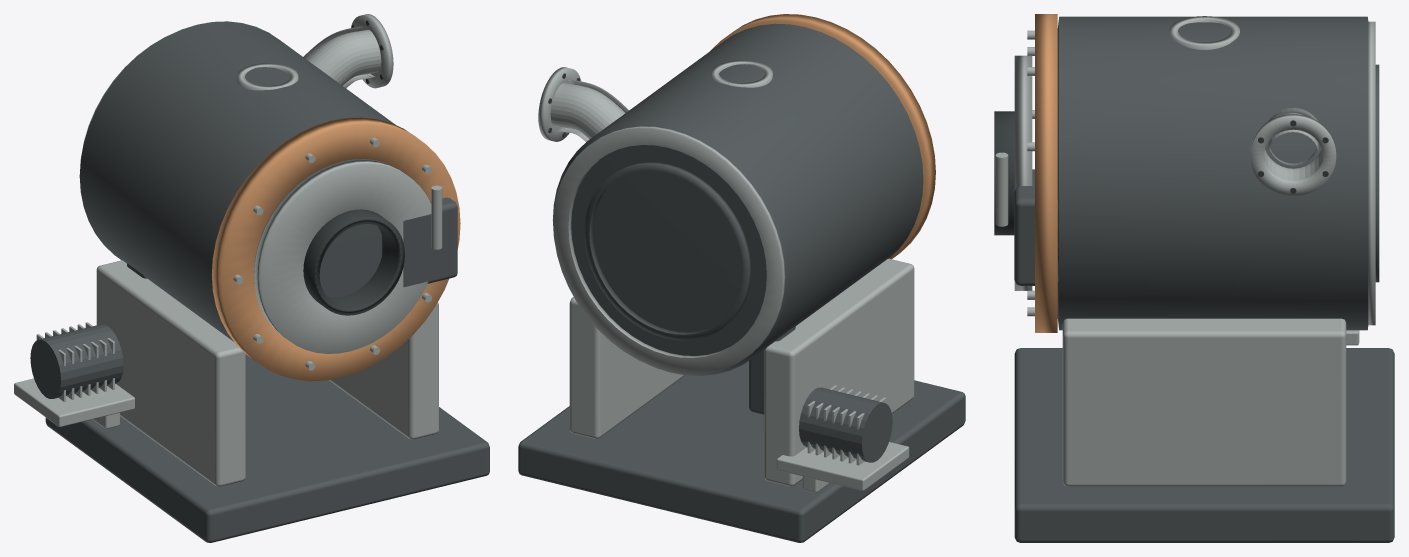
The model's file is coffee-roastery-and-cupping-room-coffee-roastery-and-c-3c00373a__32186.glb.
3 views of the same model, side by side, from view 1: azimuth 30°, elevation 25°; view 2: azimuth 150°, elevation 25°; view 3: azimuth 270°, elevation 25° (orthographic). The views are drawn at different scales.
Visible parts, largest first — view 1: coffee-roastery-and-cupping-room-drum-coffee-roaster; view 2: coffee-roastery-and-cupping-room-drum-coffee-roaster; view 3: coffee-roastery-and-cupping-room-drum-coffee-roaster.
Part boxes in pixels (x1,y1,x2,y2): coffee-roastery-and-cupping-room-drum-coffee-roaster: (14,14,489,542); coffee-roastery-and-cupping-room-drum-coffee-roaster: (518,14,965,542); coffee-roastery-and-cupping-room-drum-coffee-roaster: (994,14,1394,542).
Size of the model in its own units: 1.76 by 1.9 by 1.58.
